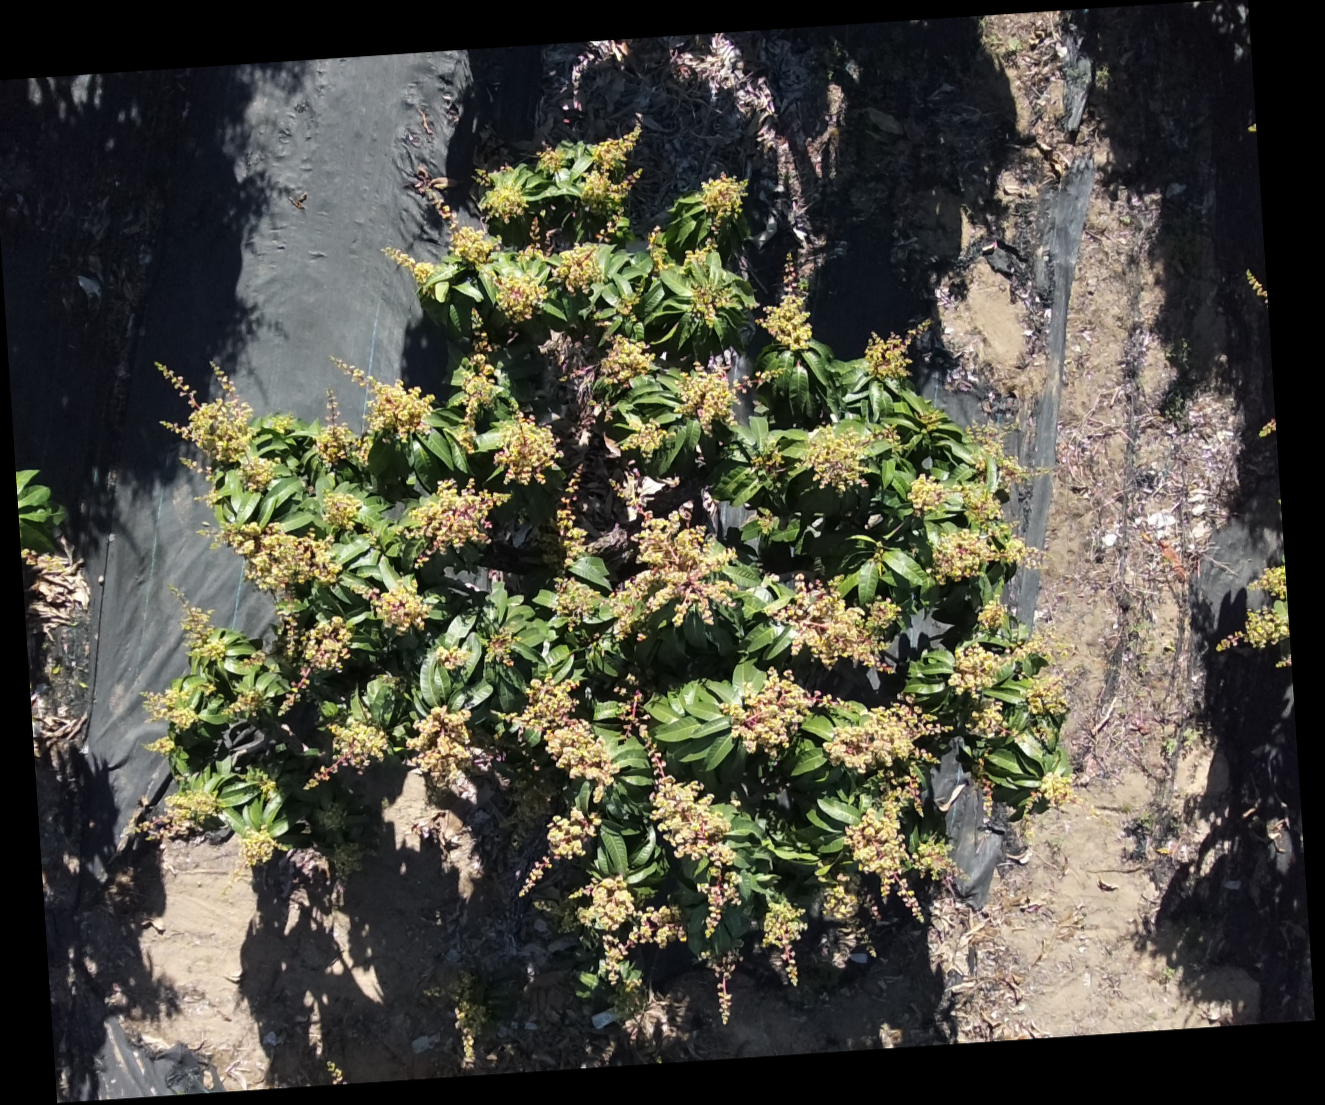flowers: (550, 514, 736, 638), (623, 688, 729, 873), (162, 360, 270, 494), (653, 773, 737, 938), (505, 677, 613, 803), (771, 573, 901, 674), (847, 800, 953, 922), (910, 471, 1025, 582), (574, 875, 685, 982), (721, 667, 830, 759), (219, 521, 340, 593), (335, 354, 434, 442), (823, 704, 941, 776), (415, 163, 492, 266), (408, 479, 510, 557), (277, 617, 354, 710), (516, 809, 602, 891), (679, 360, 770, 433), (804, 423, 897, 491), (946, 635, 1050, 694), (302, 718, 388, 786), (578, 125, 643, 214), (408, 705, 472, 787), (757, 254, 810, 351), (493, 413, 559, 485), (459, 310, 500, 425), (823, 873, 873, 966), (134, 789, 221, 838), (762, 897, 807, 986), (314, 389, 366, 464), (864, 321, 932, 379), (174, 586, 223, 661), (363, 579, 430, 634), (1214, 603, 1288, 649), (455, 972, 489, 1068), (697, 873, 740, 936), (705, 951, 742, 1024), (600, 333, 651, 384), (552, 244, 602, 293), (496, 275, 547, 322), (702, 173, 747, 225), (143, 688, 197, 731), (383, 245, 434, 288), (690, 281, 735, 327), (479, 180, 526, 223), (618, 415, 667, 457), (450, 225, 499, 266), (618, 672, 647, 741), (556, 505, 585, 567), (1025, 675, 1067, 716), (965, 699, 1006, 739), (324, 490, 362, 530), (240, 828, 278, 866), (1248, 564, 1286, 601), (330, 842, 363, 879), (1038, 772, 1072, 806), (226, 690, 270, 716), (485, 627, 515, 666), (751, 444, 784, 475), (242, 765, 276, 796), (974, 759, 993, 816), (648, 226, 668, 272), (436, 645, 470, 671), (977, 601, 1007, 630), (917, 405, 948, 431), (585, 1041, 616, 1066), (536, 146, 565, 173), (1246, 269, 1266, 306), (320, 802, 344, 831), (614, 292, 640, 316), (878, 1022, 904, 1047), (756, 507, 779, 534), (144, 736, 175, 755), (326, 1059, 344, 1084), (320, 700, 344, 718), (1258, 418, 1275, 437), (247, 649, 266, 665), (1275, 656, 1291, 666)
